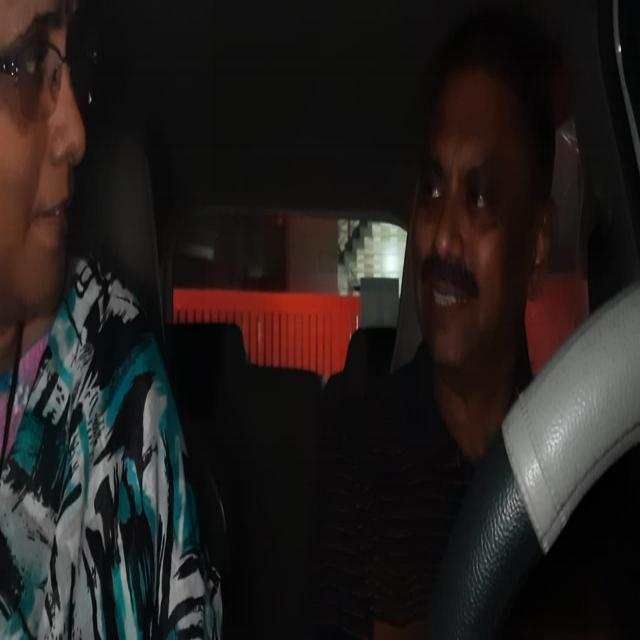LeftRight: (406, 26, 553, 385)
person: (1, 0, 107, 348)
talking: (423, 278, 468, 323)
